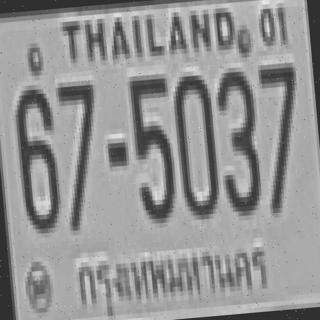N00: (169, 70, 218, 216)
N03: (213, 66, 260, 212)
N05: (126, 69, 176, 220)
N06: (10, 84, 60, 230)
N07: (254, 58, 304, 209), (56, 78, 103, 228)
P04: (70, 230, 276, 317)
